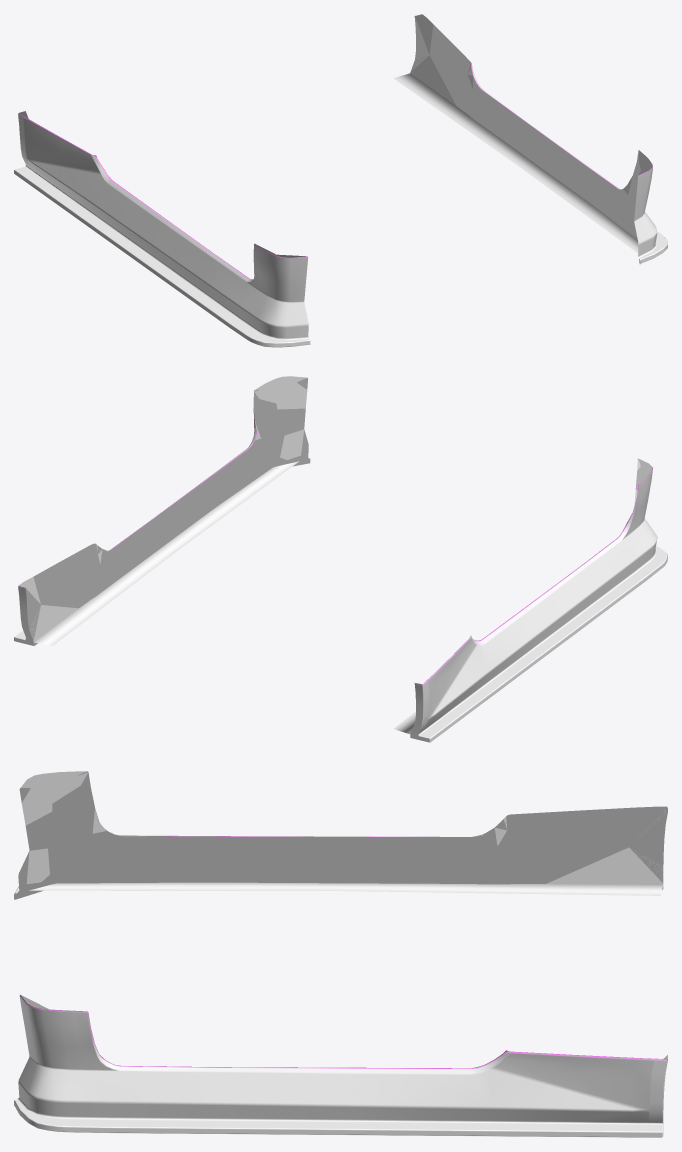
The model's file is Car_Nissan_SkylineGTRVspecR34_1999_Skirts_SetE.fbx.
3 views of the same model, one above another, from view 1: azimuth 30°, elevation 25°; view 2: azimuth 150°, elevation 25°; view 3: azimuth 270°, elevation 25° (orthographic). The views are drawn at different scales.
Parts seen in each view (by area): view 1: Skirts 6; view 2: Skirts 6; view 3: Skirts 6.
Part boxes in pixels (x1,y1,x2,y2): Skirts 6: [14, 14, 667, 347]; Skirts 6: [14, 376, 667, 742]; Skirts 6: [14, 771, 667, 1137].
Size of the model in its own units: 1.84 by 0.384 by 1.95.
